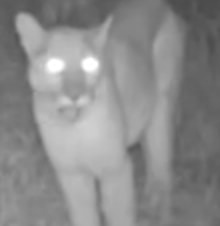Mountain Lion: (16, 4, 197, 220)
